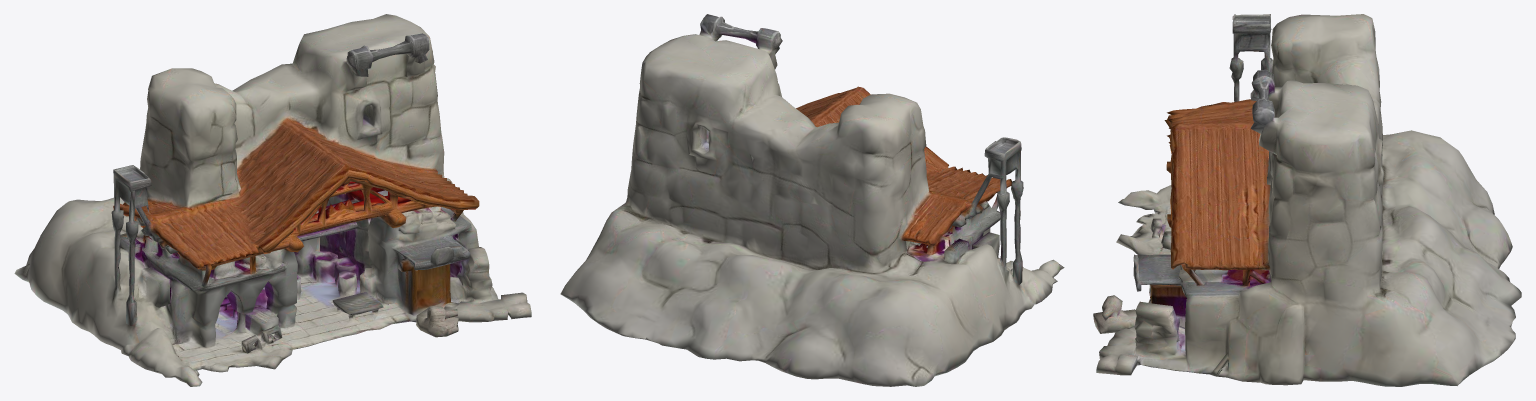
File: siege-workshop.glb
3 renders of one model, left to right at view 1: azimuth 30°, elevation 25°; view 2: azimuth 150°, elevation 25°; view 3: azimuth 270°, elevation 25°, orthographic. The views are drawn at different scales.
Size of the model in its own units: 1.91 by 1.12 by 1.73.
Materials: 1 (1 with a texture image).
